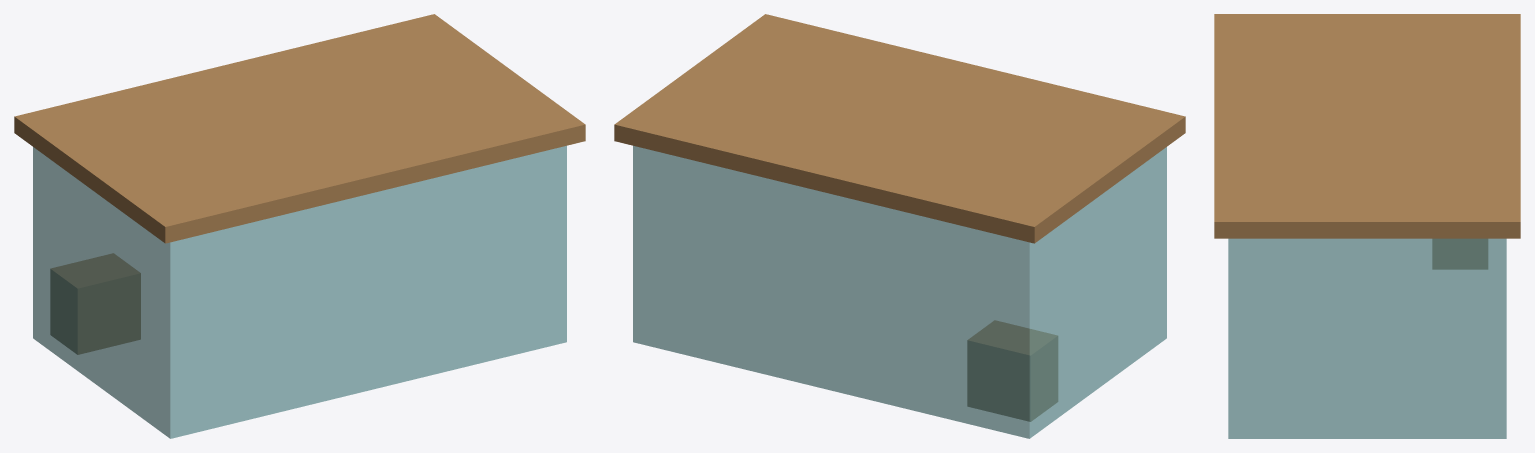
File: Heated-greenhouse.glb
3 views of the same model, side by side, from view 1: azimuth 30°, elevation 25°; view 2: azimuth 150°, elevation 25°; view 3: azimuth 270°, elevation 25° (orthographic).
Visible parts, largest first — view 1: heated-greenhouse-static-heated-glass, heated-greenhouse-static-heated-frame; view 2: heated-greenhouse-static-heated-glass, heated-greenhouse-static-heated-frame; view 3: heated-greenhouse-static-heated-frame, heated-greenhouse-static-heated-glass.
Part boxes in pixels (x1,y1,x2,y2): heated-greenhouse-static-heated-glass: (33, 145, 566, 438); heated-greenhouse-static-heated-frame: (14, 14, 585, 354); heated-greenhouse-static-heated-glass: (633, 145, 1166, 438); heated-greenhouse-static-heated-frame: (614, 14, 1185, 421); heated-greenhouse-static-heated-frame: (1214, 14, 1520, 269); heated-greenhouse-static-heated-glass: (1228, 238, 1506, 438).
Size of the model in its own units: 5.3 by 2.65 by 3.3.
